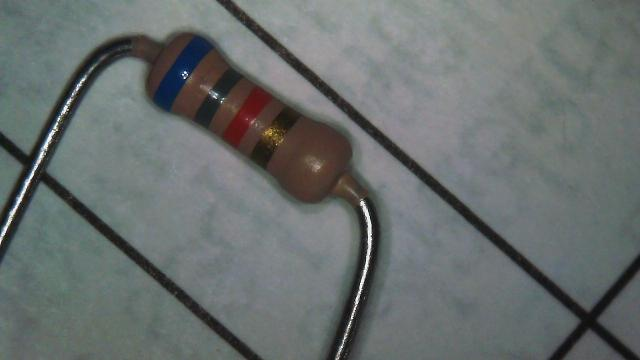blue: (152, 35, 213, 112)
gold: (250, 105, 301, 168)
grey: (193, 67, 244, 128)
orange: (223, 86, 272, 148)
resistor: (113, 0, 398, 240)
